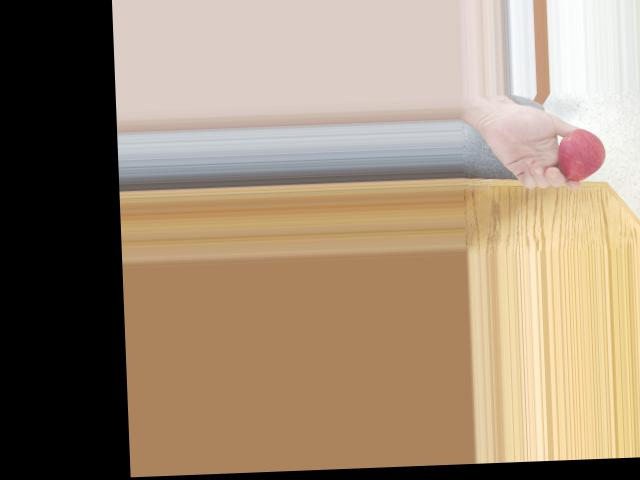apple: (550, 124, 608, 182)
